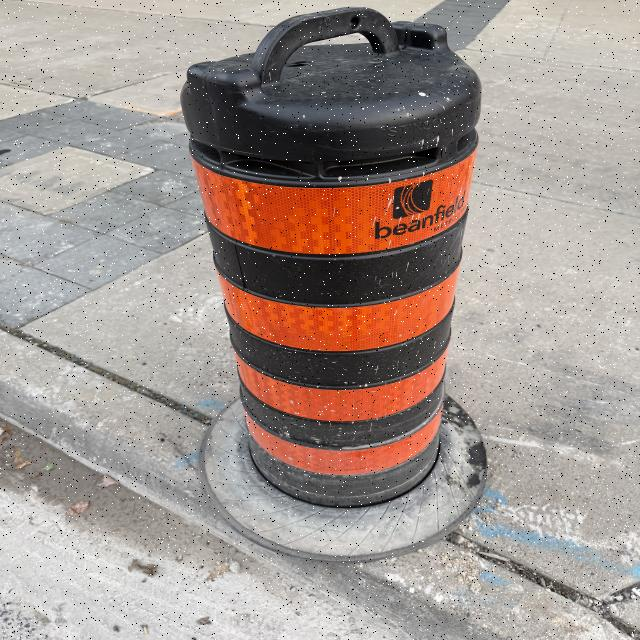Teraffic Barrel: (182, 8, 481, 508)
